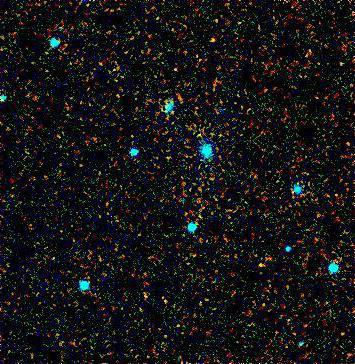star: (249, 250, 279, 280)
